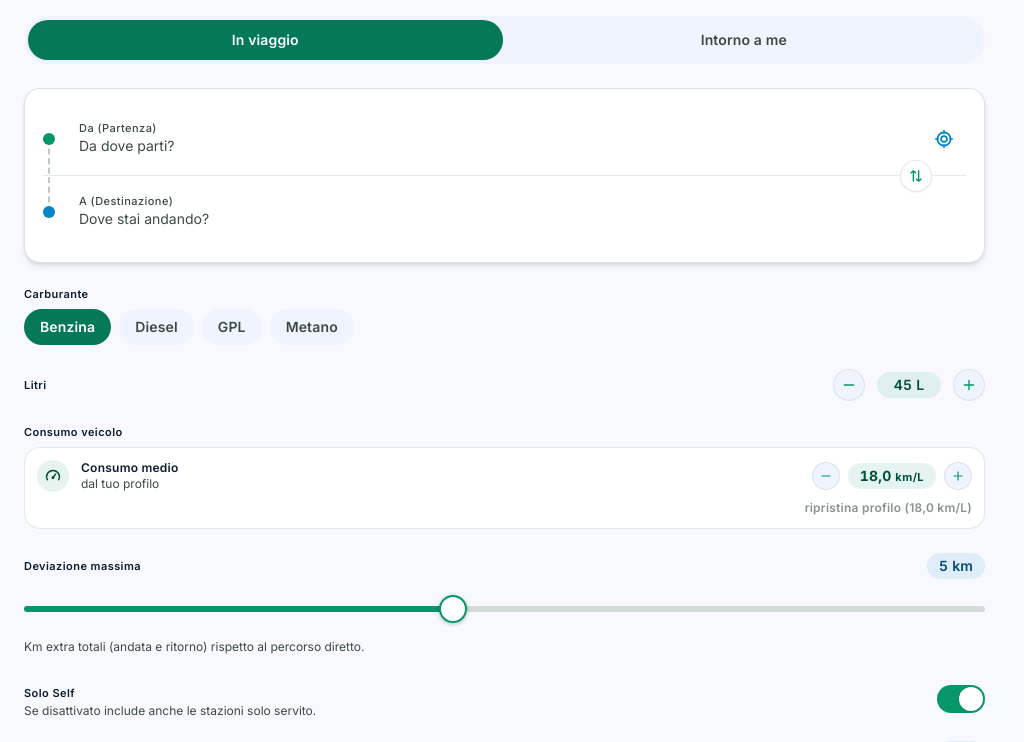
Test case: SearchForm — precompilazione dalle Impostazioni › «ripristina profilo» riporta il consumo al valore salvato nelle Impostazioni
Click the button named "Aumenta consumo": (958, 476) [944,462,972,490]
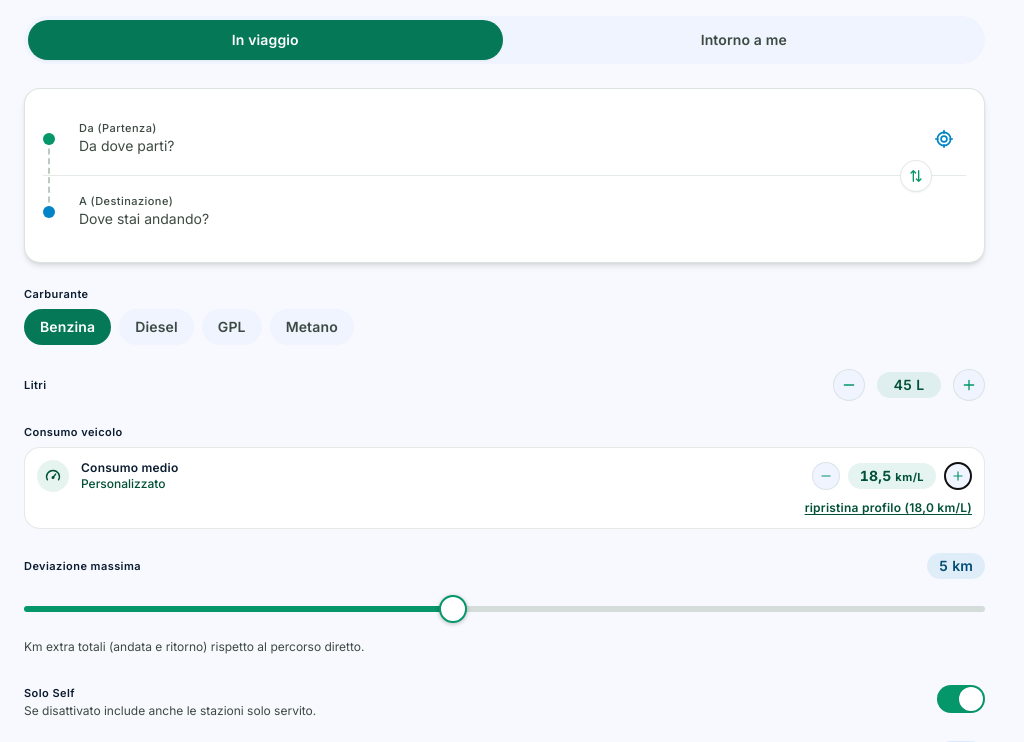
Click the button named "Aumenta consumo": (958, 476) [944,462,972,490]
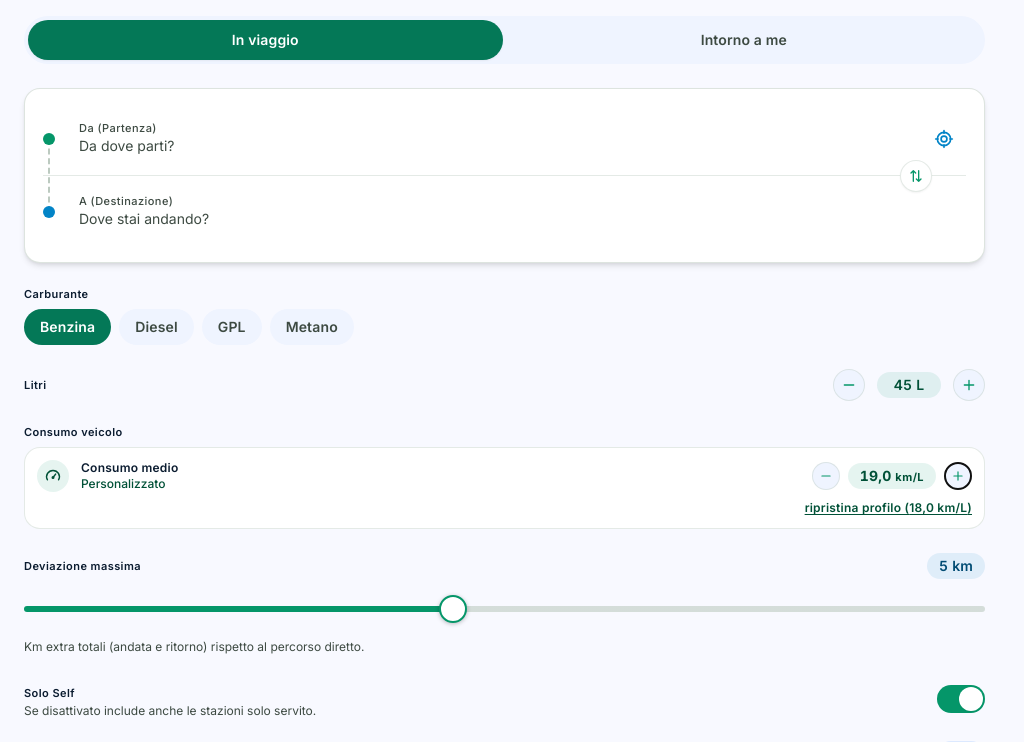
Click the button named "Aumenta consumo": (958, 476) [944,462,972,490]
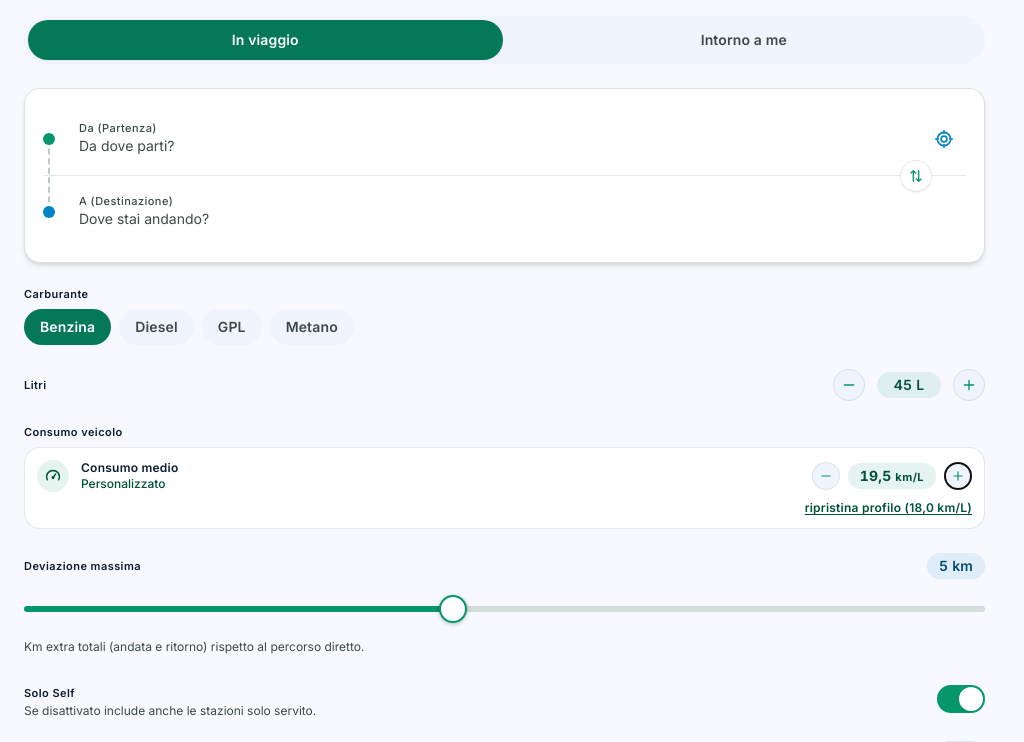
Click the button named "Aumenta consumo": (958, 476) [944,462,972,490]
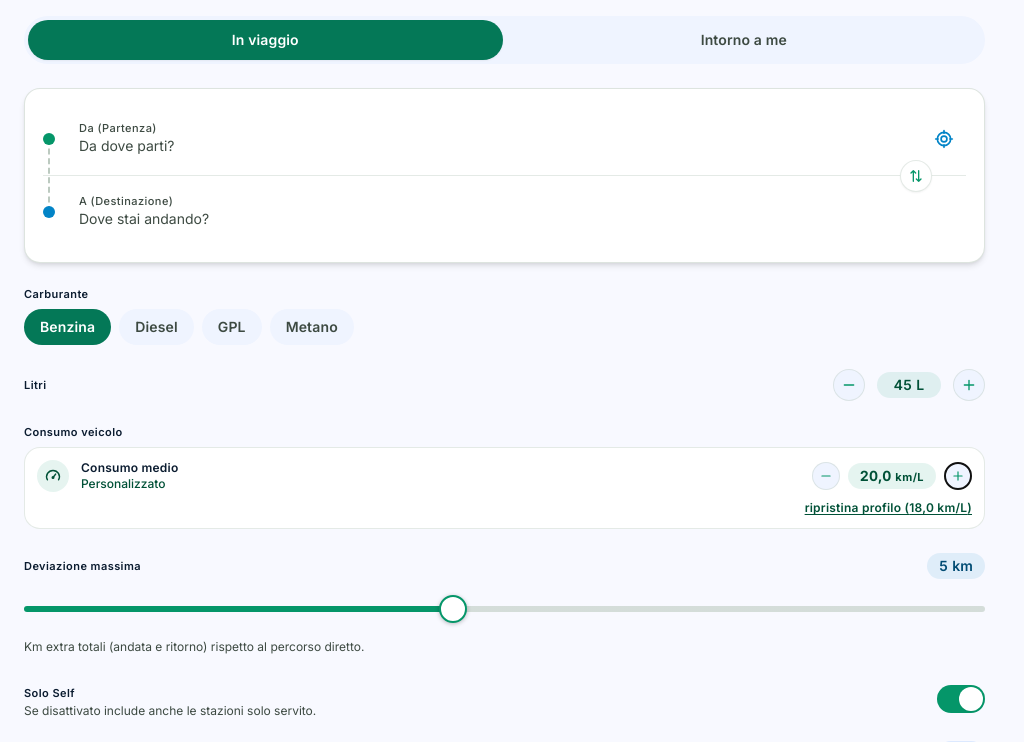
Check: the element with test id "consumption-value" reads "20,0 km/L", box [848,463,936,489]
Click the button "ripristina profilo (18,0 km/L)": (888, 508) [805,500,972,516]
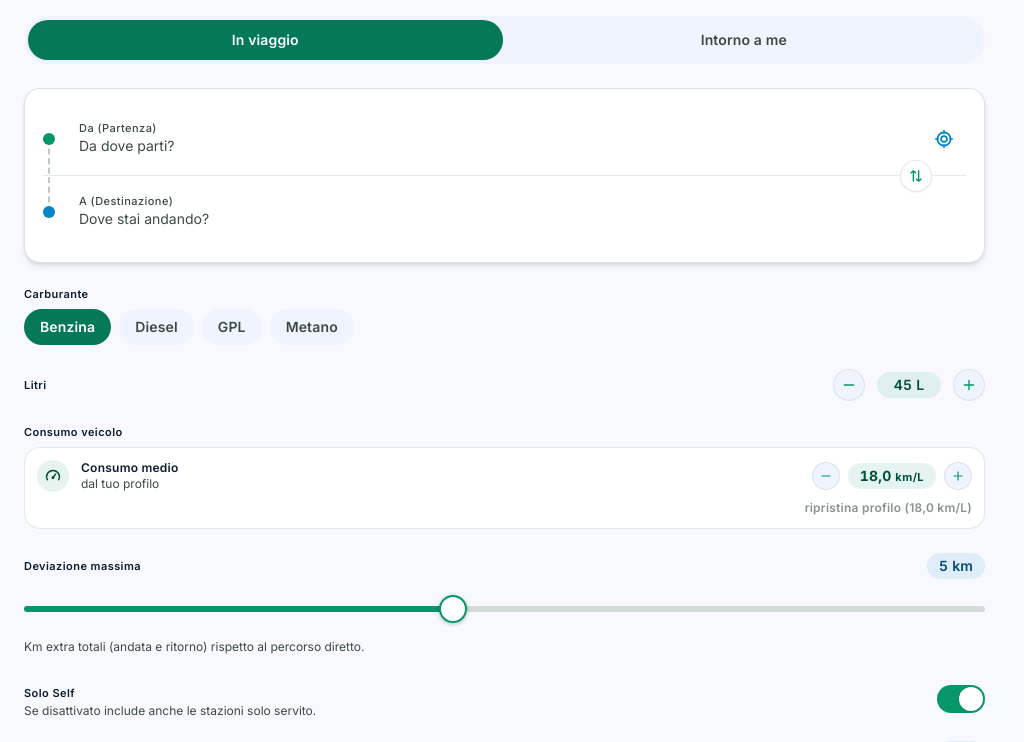
Check: the element with test id "consumption-value" reads "18,0 km/L", box [848,463,936,489]
